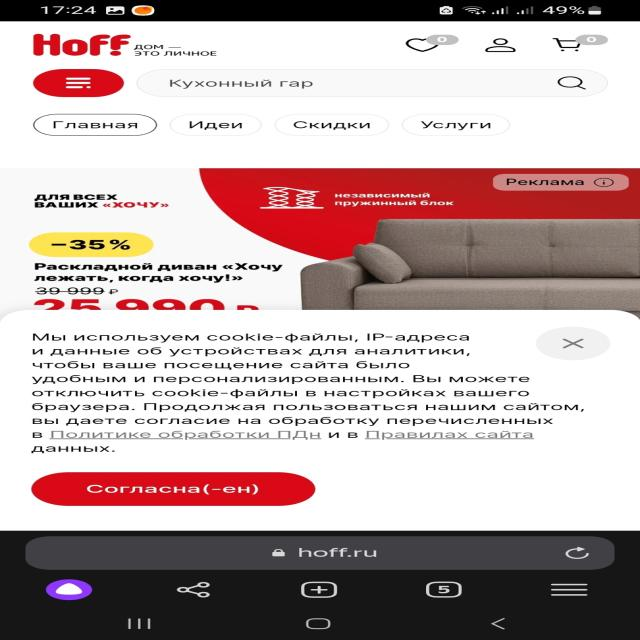button: (28, 471, 320, 507), (533, 328, 608, 359)
site: (0, 308, 640, 530)
